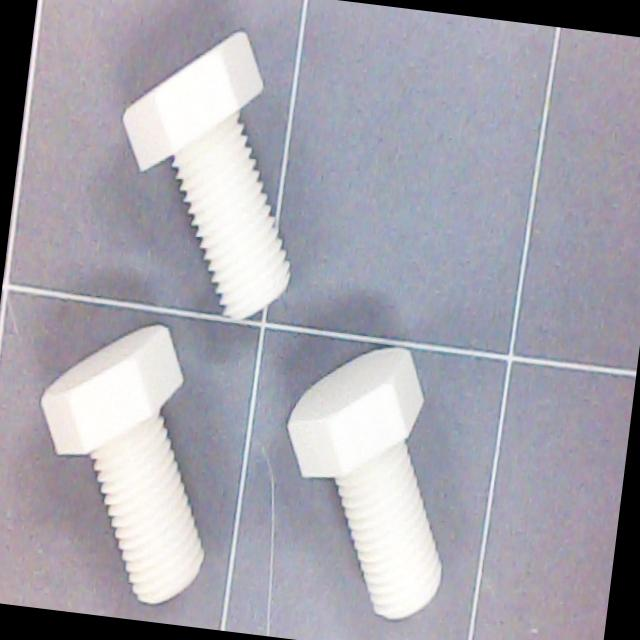bolts: (107, 30, 333, 334), (27, 320, 242, 618), (272, 341, 481, 634)
